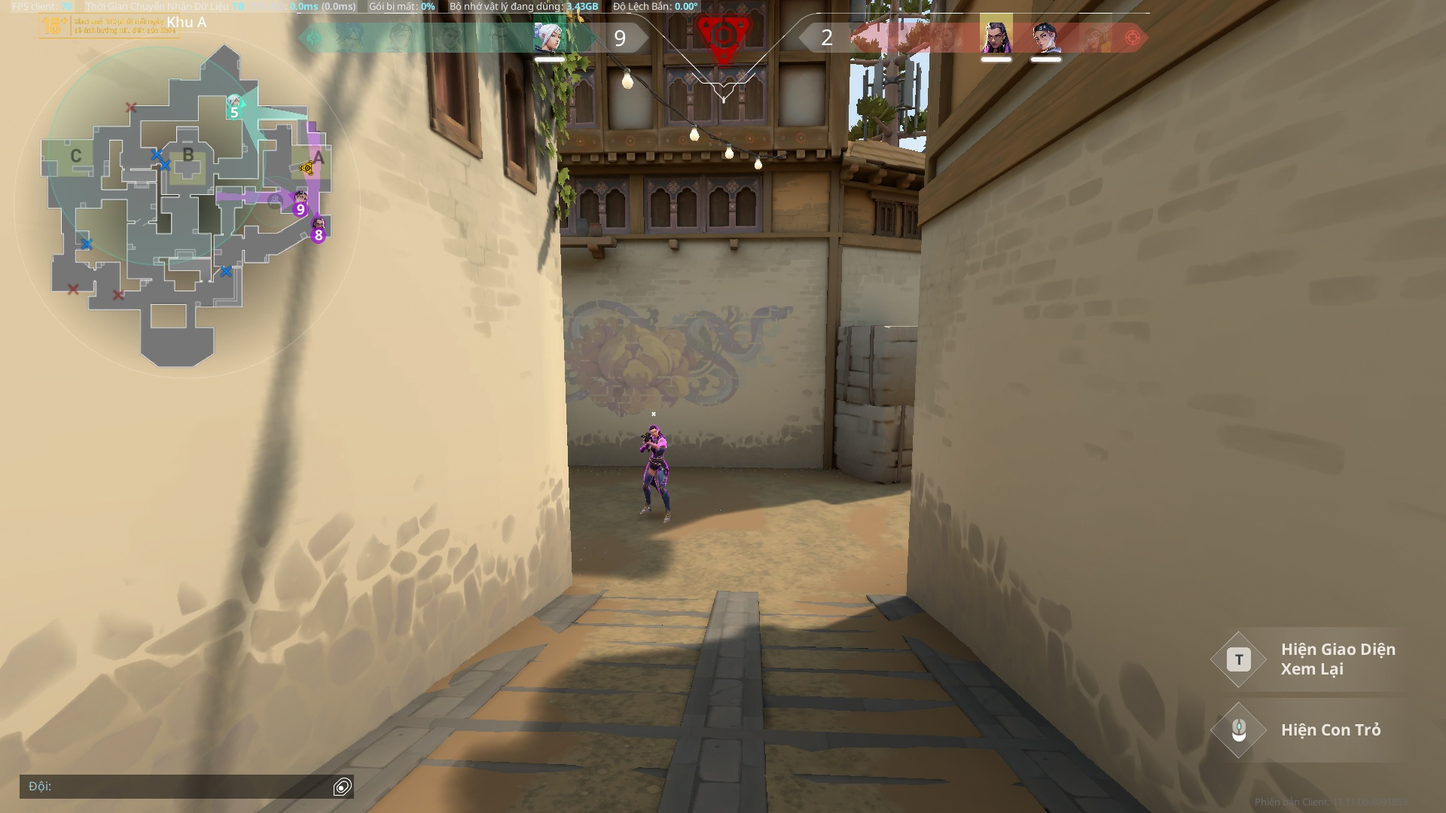body: (646, 436, 666, 458)
head: (649, 425, 661, 437)
